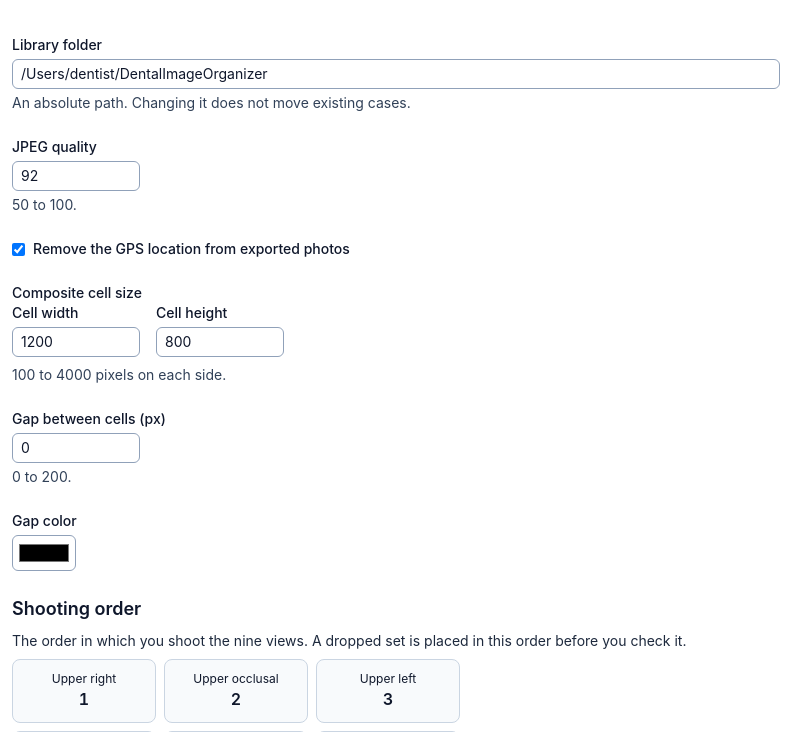
it: SettingsScreen › saving sends the whole settings with the change
The image size is (797, 732).
Replace the text in the number field labelled "JPEG quality" with "85". click: x=76, y=176
box: x1=12 y1=161 x2=140 y2=191
(page scrolled)
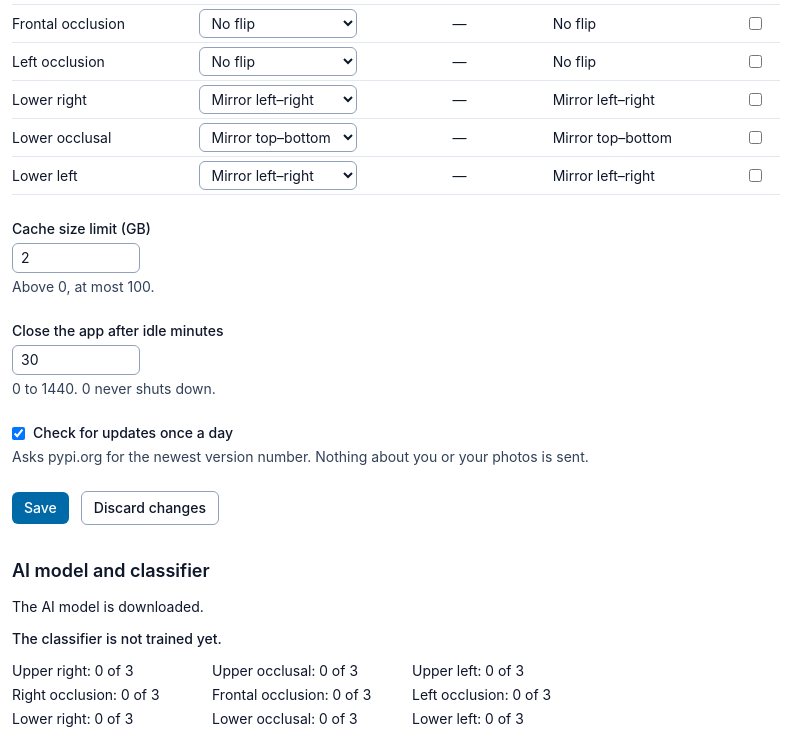
Click the button "Save". click: x=40, y=508
box: x1=12 y1=492 x2=69 y2=524
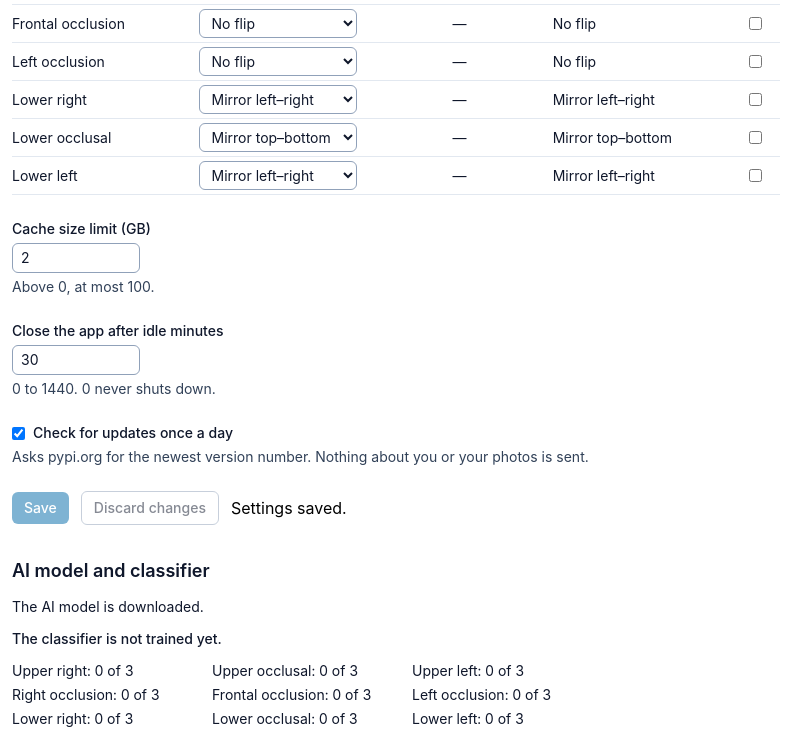
Expected: the text "Settings saved." is shown, x1=231 y1=496 x2=347 y2=520
Expected: the button "Save" is disabled, x1=12 y1=492 x2=69 y2=524
